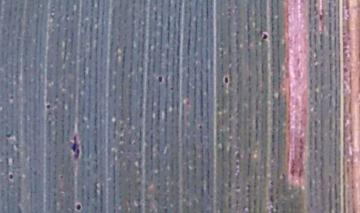tarspot: (67, 129, 83, 165), (72, 199, 85, 213), (259, 29, 270, 43), (222, 72, 231, 87), (155, 74, 166, 86), (5, 170, 15, 183), (167, 82, 177, 94), (3, 130, 14, 140), (43, 100, 52, 112), (196, 121, 205, 133), (8, 92, 16, 105), (57, 173, 64, 181)
